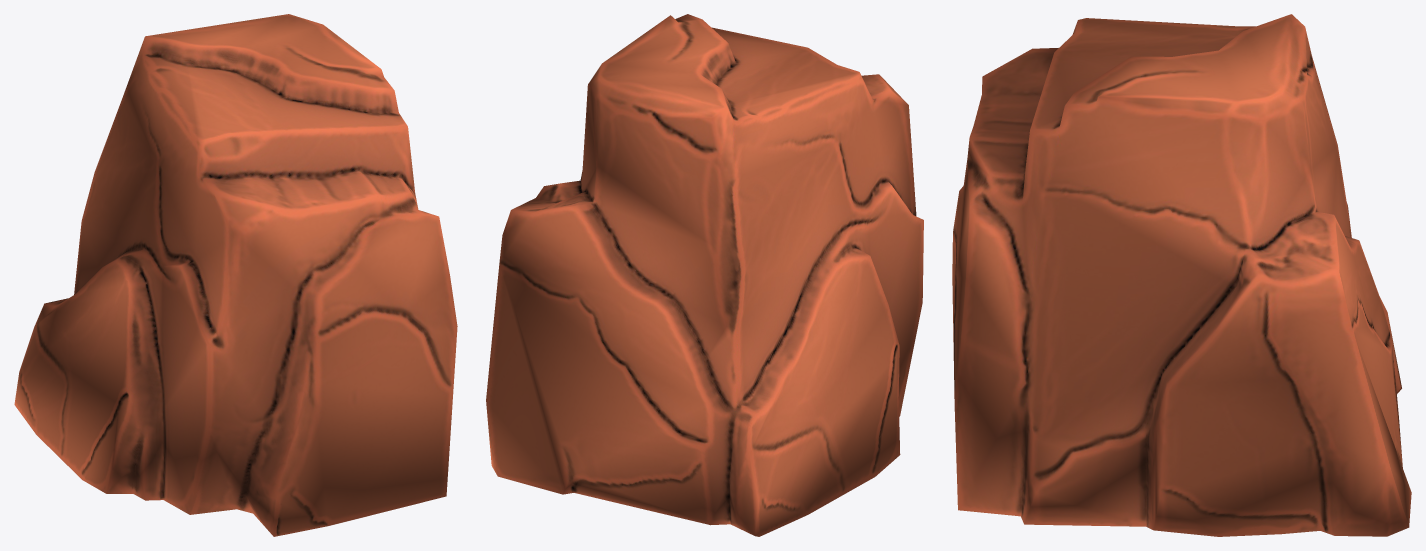
The model's file is rock_11.fbx.
3 views of the same model, side by side, from view 1: azimuth 30°, elevation 25°; view 2: azimuth 150°, elevation 25°; view 3: azimuth 270°, elevation 25° (orthographic). The views are drawn at different scales.
Visible parts, largest first — view 1: Low; view 2: Low; view 3: Low.
Part boxes in pixels (bbox=[...]): Low: bbox=[14, 14, 457, 536]; Low: bbox=[486, 14, 923, 536]; Low: bbox=[952, 14, 1411, 536].
Size of the model in its own units: 170 by 199 by 198.
1 material, 1 textured.
